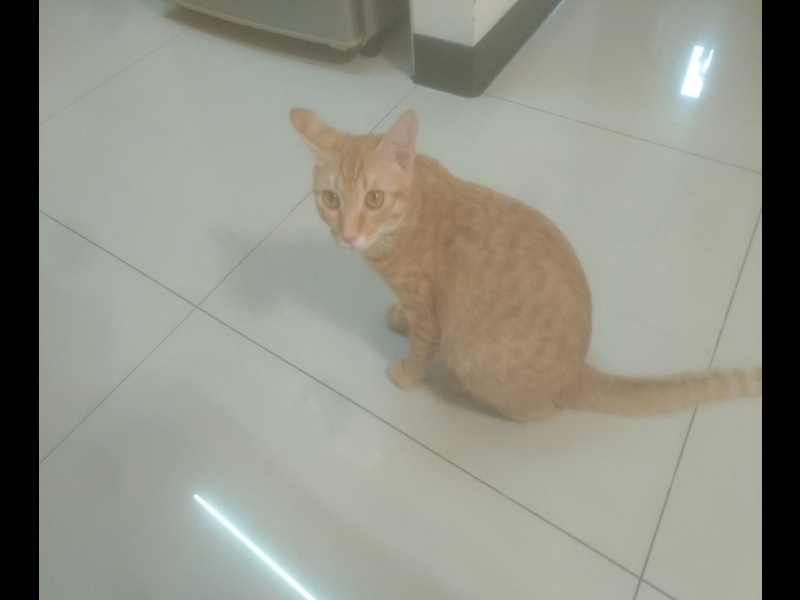cat: (283, 102, 751, 423)
